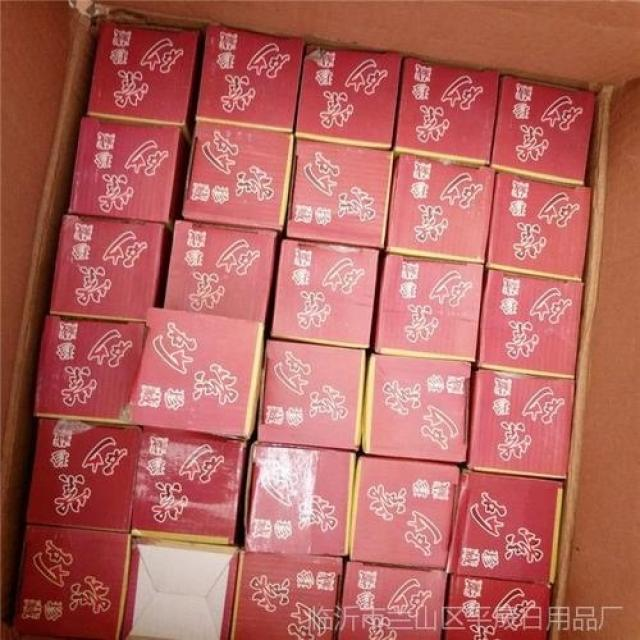box: (123, 308, 265, 439), (86, 21, 203, 143), (130, 428, 247, 545), (26, 418, 142, 534), (69, 117, 186, 232), (14, 524, 130, 639), (446, 469, 562, 584), (32, 316, 146, 426), (50, 214, 164, 323), (181, 122, 295, 231), (361, 353, 472, 464), (195, 21, 305, 133), (245, 442, 355, 554), (350, 457, 460, 569), (386, 154, 496, 264), (287, 138, 395, 249), (486, 171, 593, 283), (468, 368, 575, 479), (477, 269, 584, 380), (258, 341, 366, 450), (271, 240, 379, 349), (374, 255, 484, 362), (164, 221, 278, 323), (491, 75, 596, 185), (122, 539, 237, 639), (395, 57, 500, 165), (295, 44, 402, 148), (230, 551, 342, 639), (338, 561, 447, 639), (445, 575, 551, 639)
